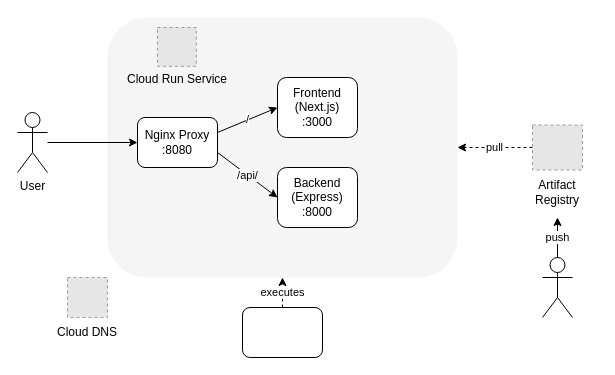
This 615x375 diagram has some shape labels left out. Grey dashed boxes stand in for pictures. The box of each missing label's shape, as (x1, y1, x2, y2) in pixels:
Developer: (542, 256, 572, 318)
Service Account: (242, 306, 322, 358)
